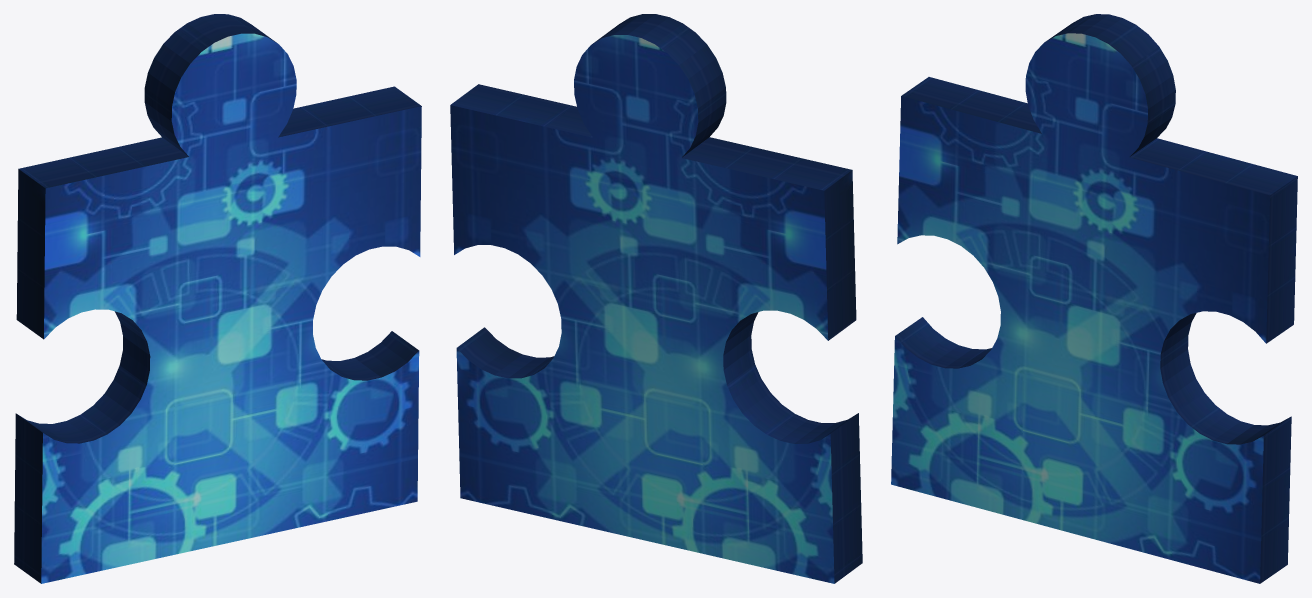
File: suipian.FBX
3 renders of one model, left to right at view 1: azimuth 30°, elevation 25°; view 2: azimuth 150°, elevation 25°; view 3: azimuth 330°, elevation 25°, orthographic.
Visible parts, largest first — view 1: sdyq_chip; view 2: sdyq_chip; view 3: sdyq_chip.
Boxes of the visible parts, left/top/right/bottom form: sdyq_chip: left=14, top=14, right=421, bottom=583; sdyq_chip: left=450, top=14, right=862, bottom=583; sdyq_chip: left=891, top=14, right=1297, bottom=583.
Size of the model in its own units: 0.8254 by 1.05 by 0.122.
Materials: 1 (1 with a texture image).
